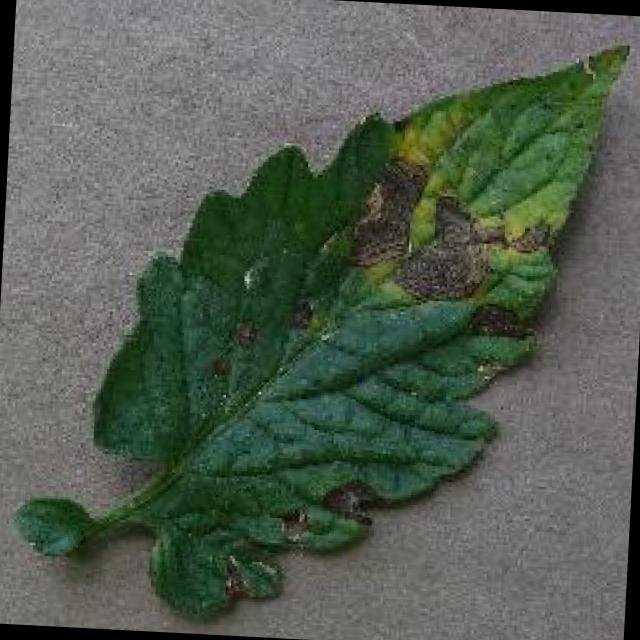Tomato_Early_Blight: (326, 25, 640, 319), (198, 449, 394, 620)
